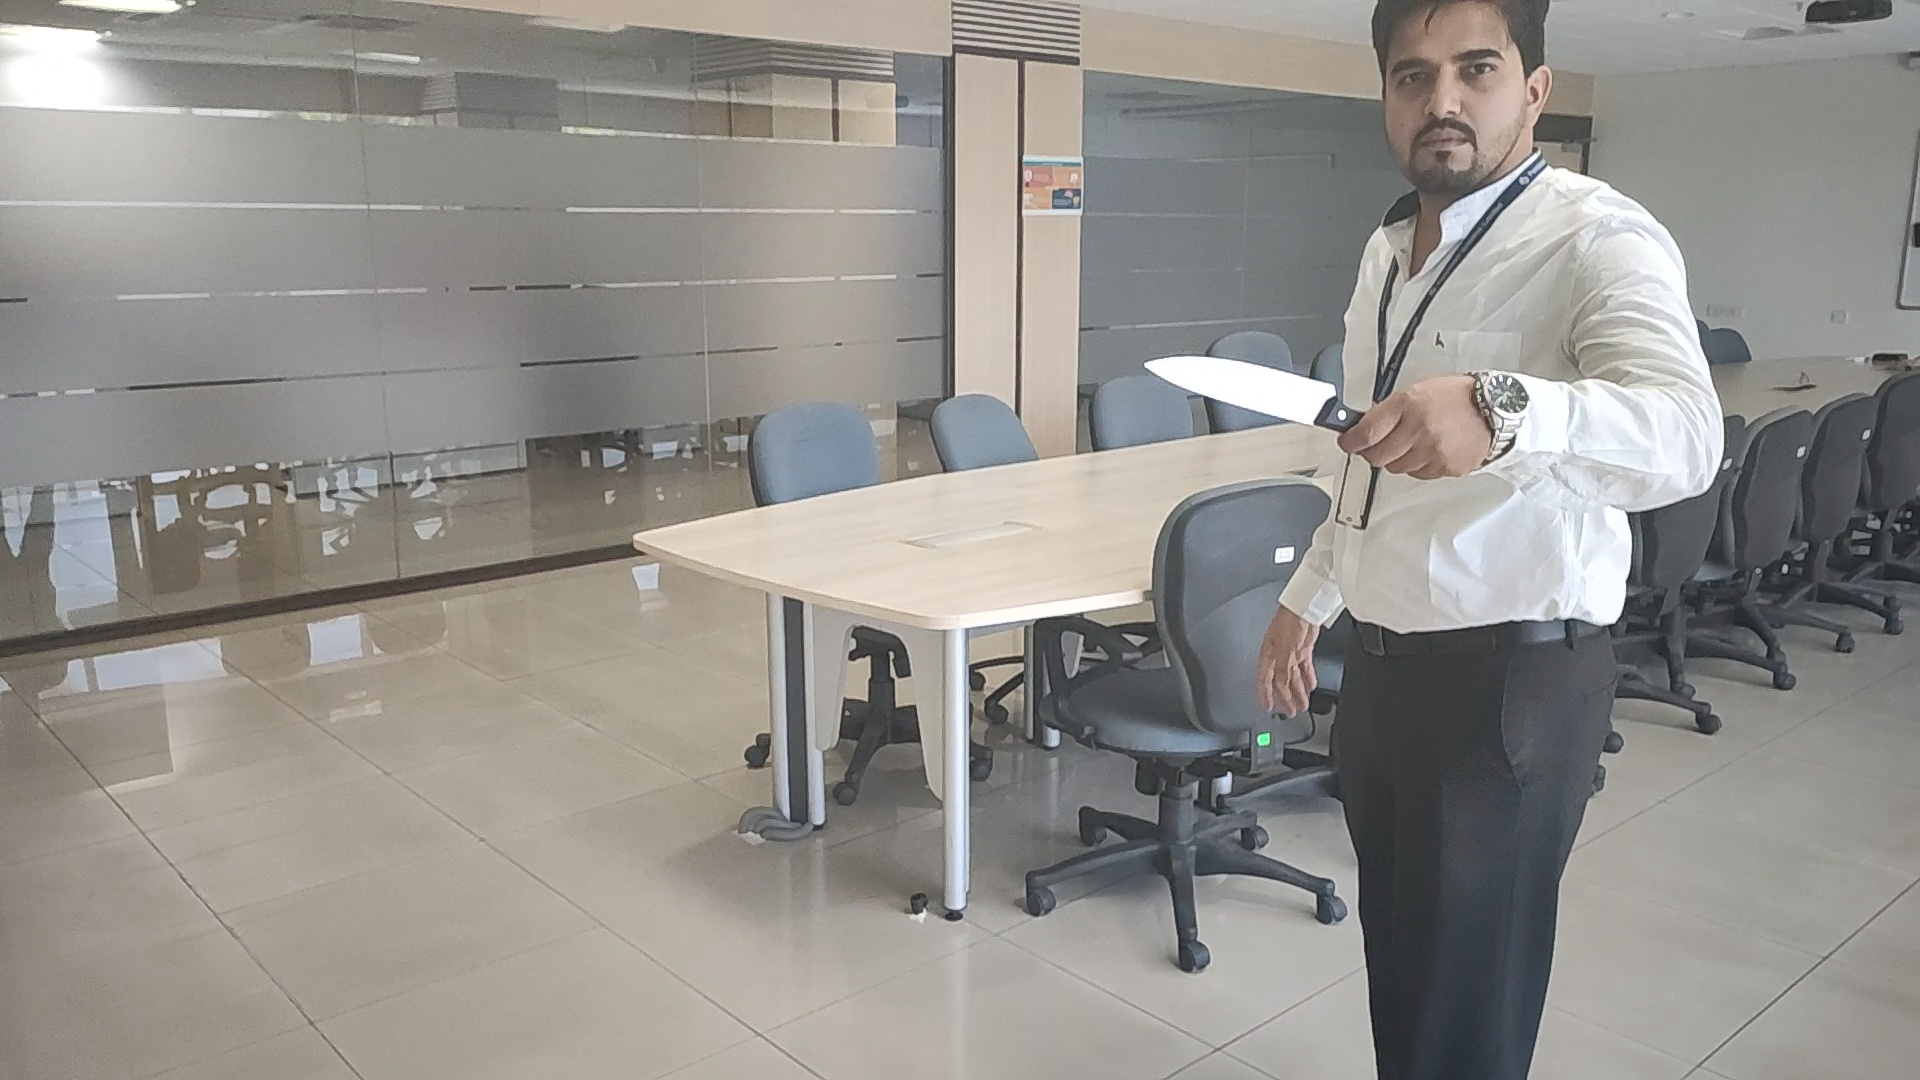knife: (1142, 351, 1364, 430)
